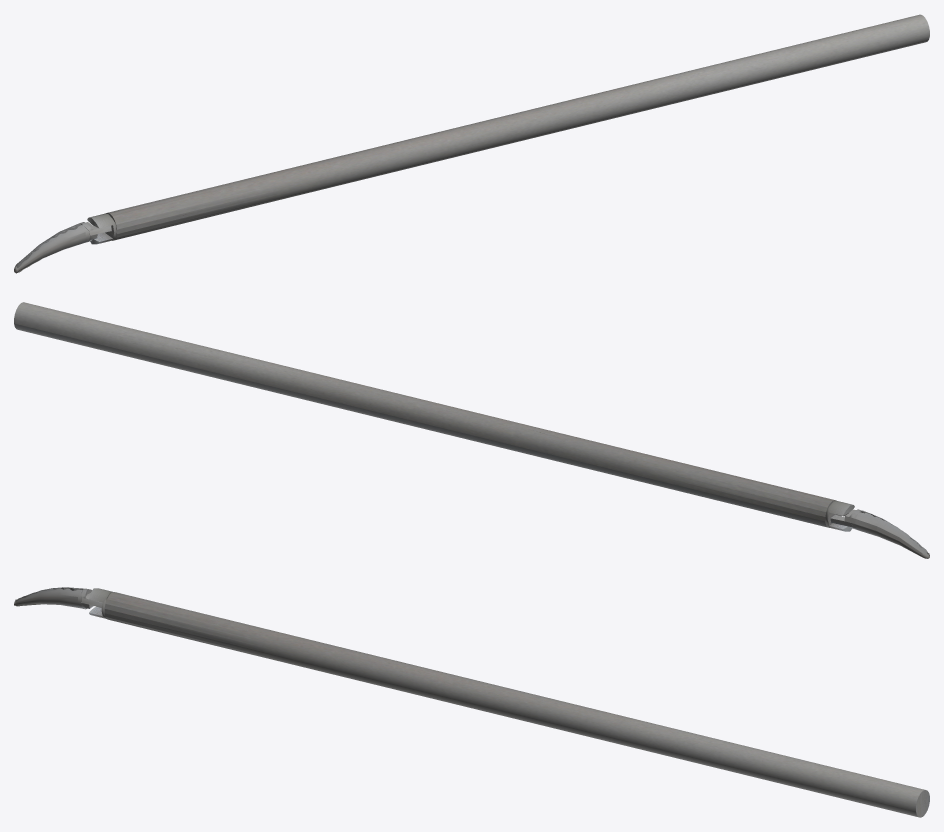
The model's file is jiazi.obj.
The picture shows the model from 3 angles, top to bottom: view 1: azimuth 30°, elevation 25°; view 2: azimuth 150°, elevation 25°; view 3: azimuth 330°, elevation 25°; orthographic projection.
Visible parts, largest first — view 1: Cylinder01, down; view 2: Cylinder01, up; view 3: Cylinder01, down.
Part boxes in pixels (left/top/right/bottom): Cylinder01: left=87, top=14, right=929, bottom=244; down: left=15, top=225, right=105, bottom=273; Cylinder01: left=14, top=302, right=854, bottom=531; up: left=835, top=509, right=929, bottom=558; Cylinder01: left=89, top=588, right=929, bottom=817; down: left=14, top=588, right=93, bottom=609.
Size of the model in its own units: 305 by 11.32 by 8.38.
